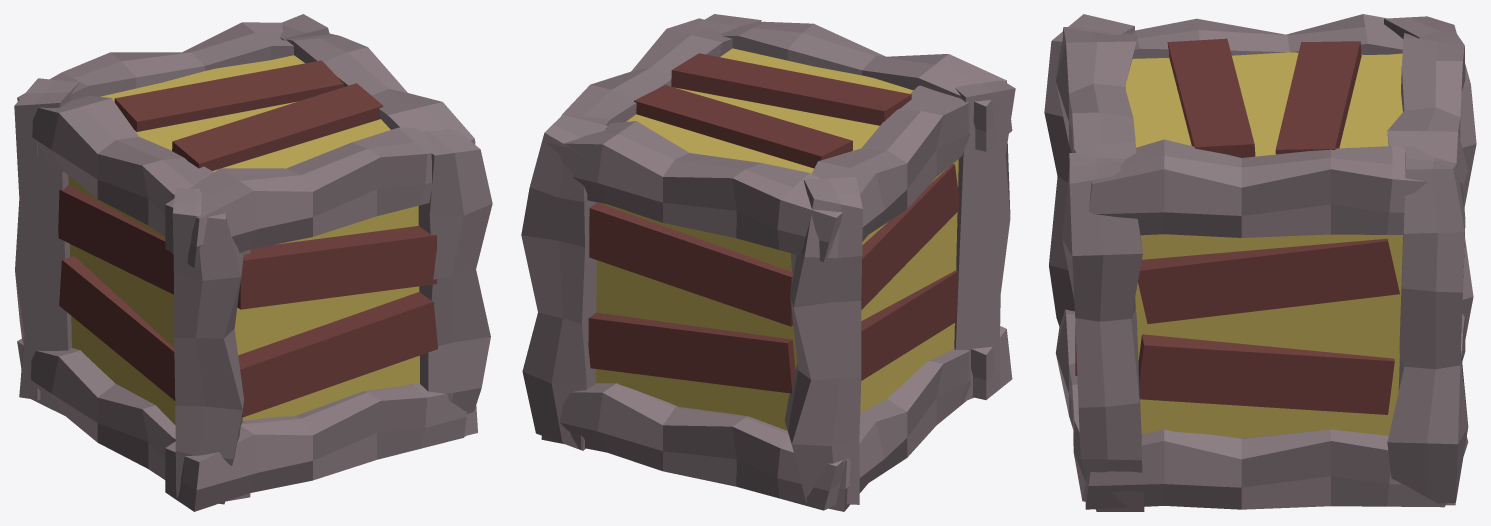
3 views of the same model, side by side, from view 1: azimuth 30°, elevation 25°; view 2: azimuth 150°, elevation 25°; view 3: azimuth 270°, elevation 25° (orthographic). The views are drawn at different scales.
Parts seen in each view (by area): view 1: Cube, Cube.006, Cube.003, Cube.010, Cube.011, Cube.014, Cube.002, Cube.009, Cube.013, Cube.007, Cube.022, Cube.021 (+5 smaller); view 2: Cube, Cube.004, Cube.009, Cube.012, Cube.005, Cube.010, Cube.020, Cube.019, Cube.002, Cube.003, Cube.022, Cube.007 (+6 smaller); view 3: Cube, Cube.001, Cube.012, Cube.008, Cube.011, Cube.018, Cube.017, Cube.003, Cube.004, Cube.022, Cube.021, Cube.002 (+3 smaller).
Part boxes in pixels (box(x1,y1,x2,y2)): Cube: box(68, 55, 419, 424); Cube.006: box(165, 384, 466, 511); Cube.003: box(165, 127, 434, 268); Cube.010: box(172, 188, 243, 504); Cube.011: box(418, 128, 492, 436); Cube.014: box(238, 292, 437, 417); Cube.002: box(32, 95, 250, 255); Cube.009: box(14, 78, 79, 400); Cube.013: box(237, 226, 436, 309); Cube.007: box(21, 347, 250, 501); Cube.022: box(172, 83, 383, 170); Cube.021: box(114, 60, 343, 131); Cube: box(596, 48, 958, 430); Cube.004: box(547, 121, 842, 261); Cube.009: box(784, 177, 862, 504); Cube.012: box(521, 114, 608, 450); Cube.005: box(541, 383, 844, 510); Cube.010: box(954, 80, 1015, 401); Cube.020: box(589, 202, 793, 326); Cube.019: box(588, 312, 795, 393); Cube.002: box(811, 85, 969, 263); Cube.003: box(721, 21, 1012, 151); Cube.022: box(671, 53, 911, 125); Cube.007: box(829, 349, 970, 511); Cube: box(1125, 52, 1402, 438); Cube.001: box(1089, 139, 1427, 237); Cube.012: box(1387, 145, 1468, 503); Cube.008: box(1085, 429, 1445, 509); Cube.011: box(1062, 153, 1144, 511); Cube.018: box(1138, 334, 1394, 414); Cube.017: box(1138, 238, 1399, 323); Cube.003: box(1055, 27, 1136, 158); Cube.004: box(1387, 33, 1468, 186); Cube.022: box(1167, 38, 1255, 157); Cube.021: box(1275, 41, 1361, 154); Cube.002: box(1130, 14, 1403, 58).
Size of the model in its own units: 256 by 237 by 268.
